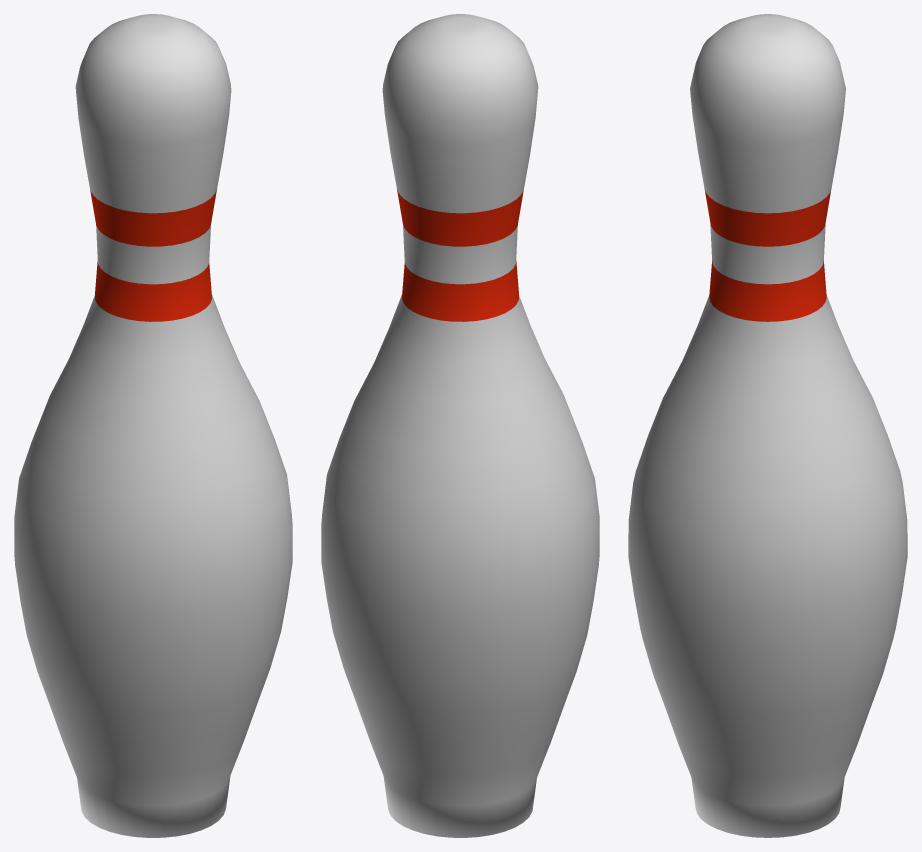
The model's file is pino.glb.
3 views of the same model, side by side, from view 1: azimuth 30°, elevation 25°; view 2: azimuth 150°, elevation 25°; view 3: azimuth 270°, elevation 25° (orthographic).
Visible parts, largest first — view 1: Circle; view 2: Circle; view 3: Circle.
Boxes of the visible parts, left/top/right/bottom form: Circle: left=14, top=14, right=292, bottom=837; Circle: left=321, top=14, right=599, bottom=837; Circle: left=628, top=14, right=907, bottom=837.
Bounding box in the file's own units: 1.33 × 4.12 × 1.33.
